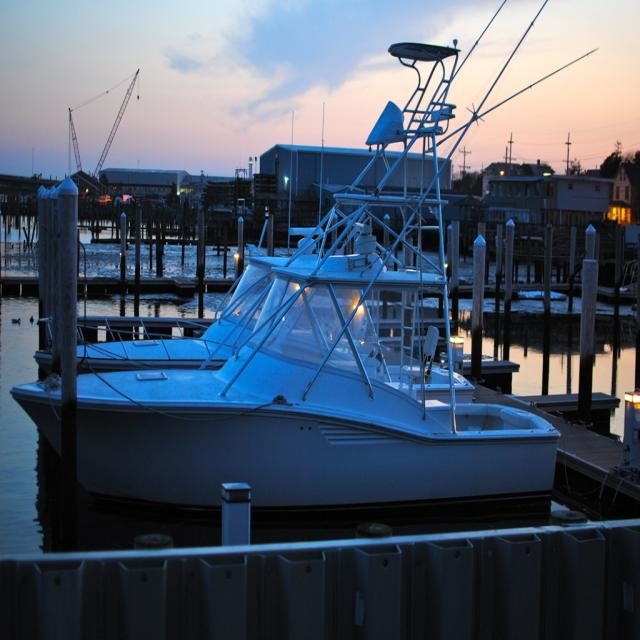Boat: (19, 67, 572, 578)
